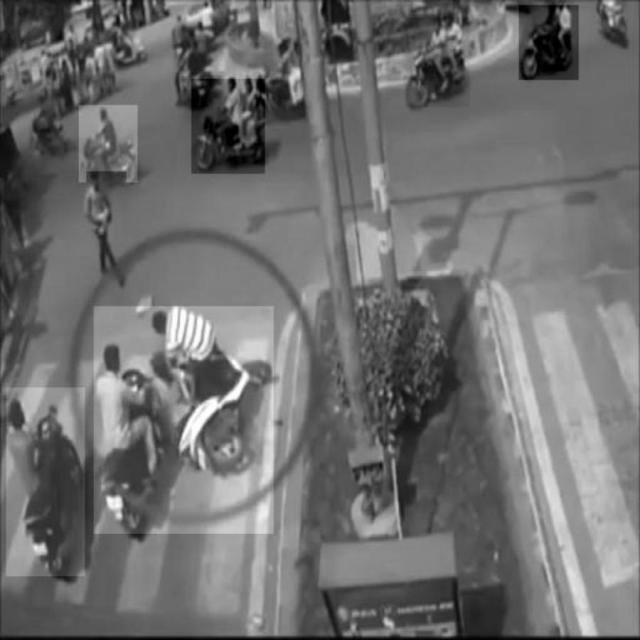accident: (94, 307, 274, 534)
person: (86, 172, 126, 286)
vehicle: (7, 388, 85, 576), (192, 79, 265, 173), (405, 18, 469, 108), (520, 5, 580, 81), (79, 105, 137, 182)
